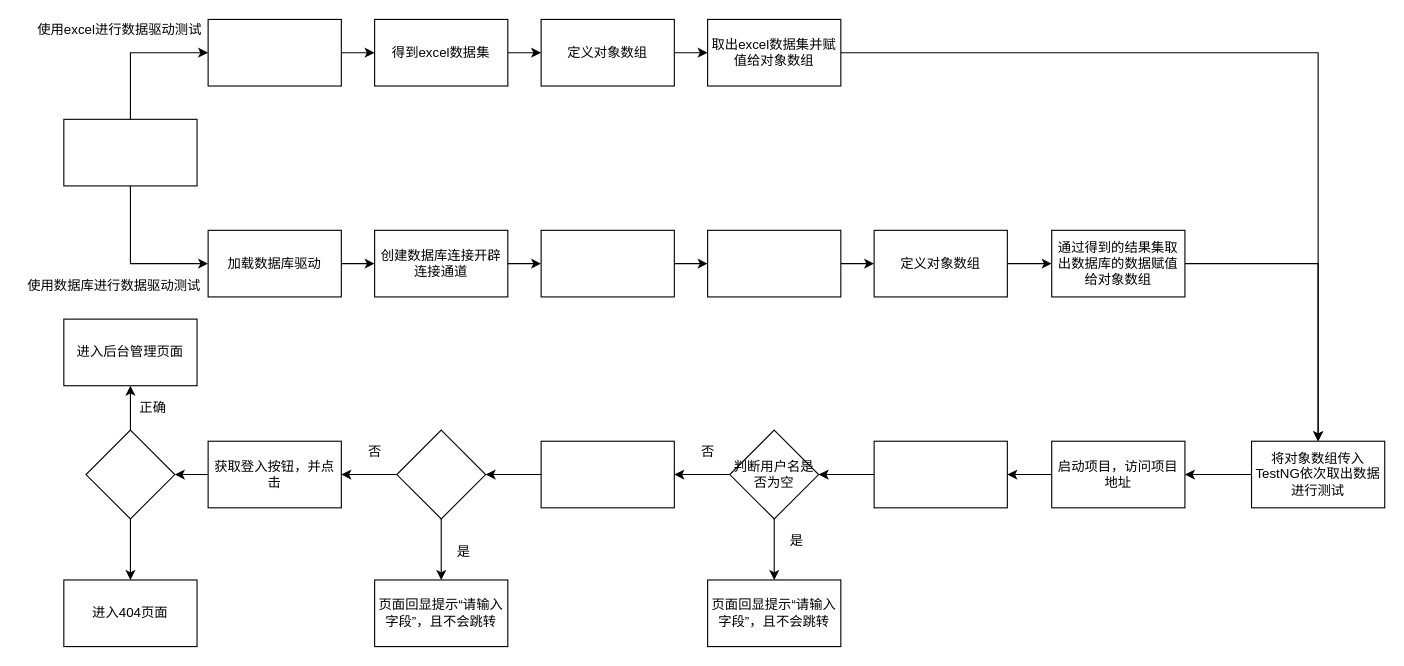
The diagram is 1404 pixels wide and 666 high, and some of its shapes have lost their labels. The shapes that lost their labels are listed below. From the top down, each one's centre as x and y in pixels, then its label:
At pixel 274 52: "使用EasyExcel读取excel文件".
At pixel 130 152: "@DataProvider：实现参数化".
At pixel 607 263: "获取并传送sql语句".
At pixel 774 263: "得到结果集记录数据量".
At pixel 130 474: "断言：用户名和密码是否正确".
At pixel 441 474: "判断密码是否为空".
At pixel 607 474: "获取密码框，填写密码数据".
At pixel 940 474: "获取用户名框，填写用户名数据".
